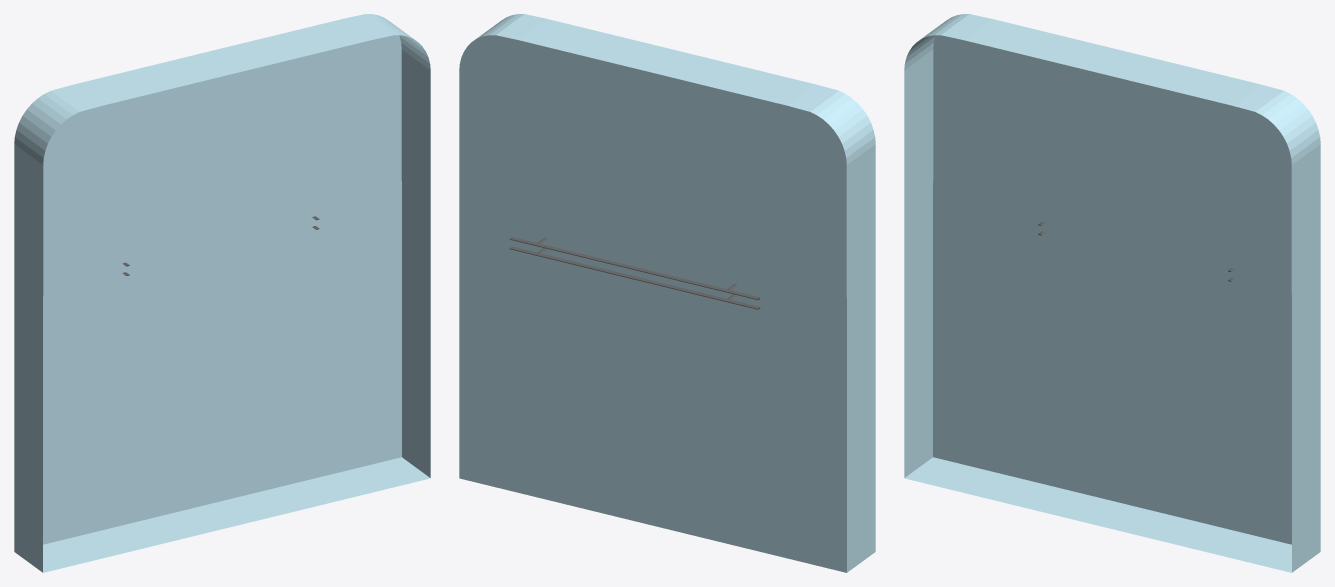
The model's file is Gate 1.fbx.
3 renders of one model, left to right at view 1: azimuth 30°, elevation 25°; view 2: azimuth 150°, elevation 25°; view 3: azimuth 330°, elevation 25°, orthographic.
Visible parts, largest first — view 1: Gate_entrance; view 2: Gate_entrance, metaldooa, metaldoor; view 3: Gate_entrance.
Boxes of the visible parts, left/top/right/bottom form: Gate_entrance: left=14, top=14, right=430, bottom=572; Gate_entrance: left=459, top=14, right=875, bottom=572; metaldooa: left=509, top=237, right=760, bottom=300; metaldoor: left=509, top=246, right=760, bottom=309; Gate_entrance: left=904, top=14, right=1320, bottom=572.
Bounding box in the file's own units: 205 × 229 × 36.05.
